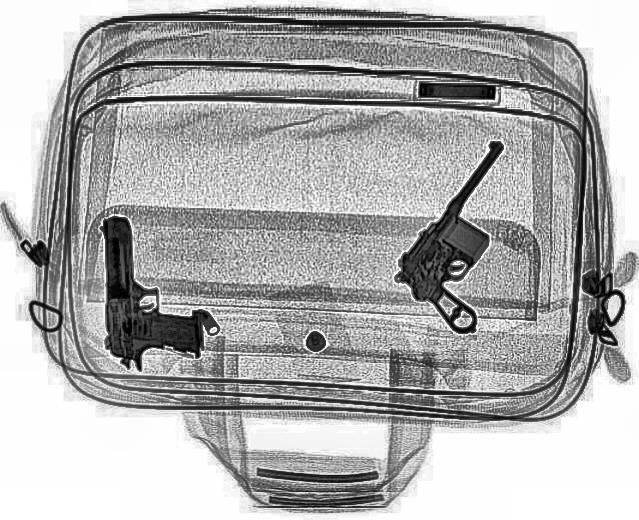Gun: (366, 138, 594, 337), (100, 214, 200, 370)
